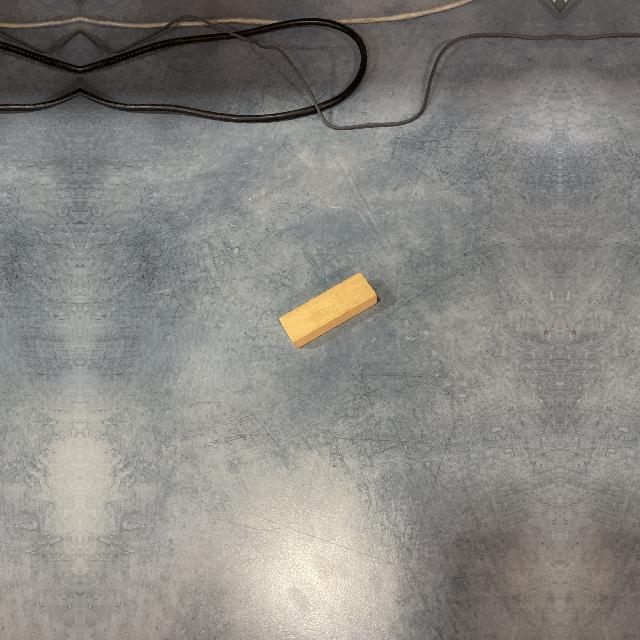jenga: (279, 274, 378, 350)
